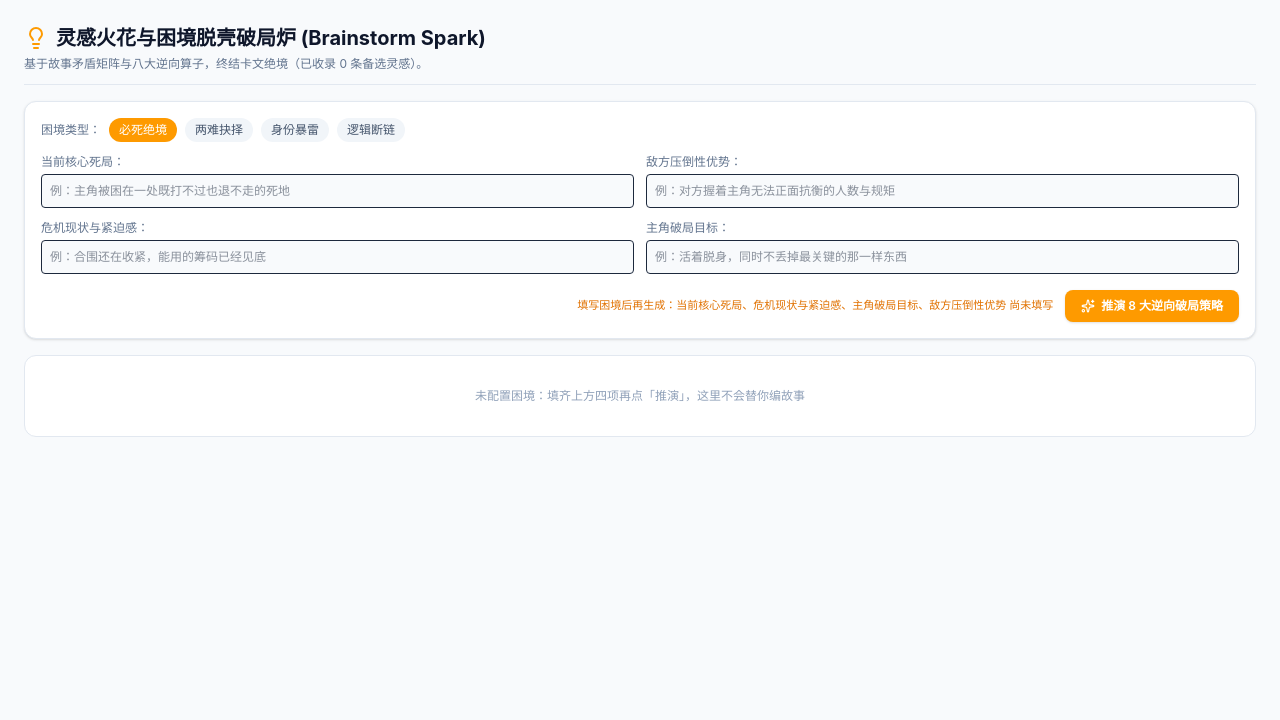
Test case: BrainstormSpark Components › 四项填齐后点推演才产出 8 条方案
In the field with placeholder "例：主角被困在一处既打不过也退不走的死地": (338, 191) [41,174,634,208], type "主角被堵在废弃矿道尽头，追兵只剩一炷香"
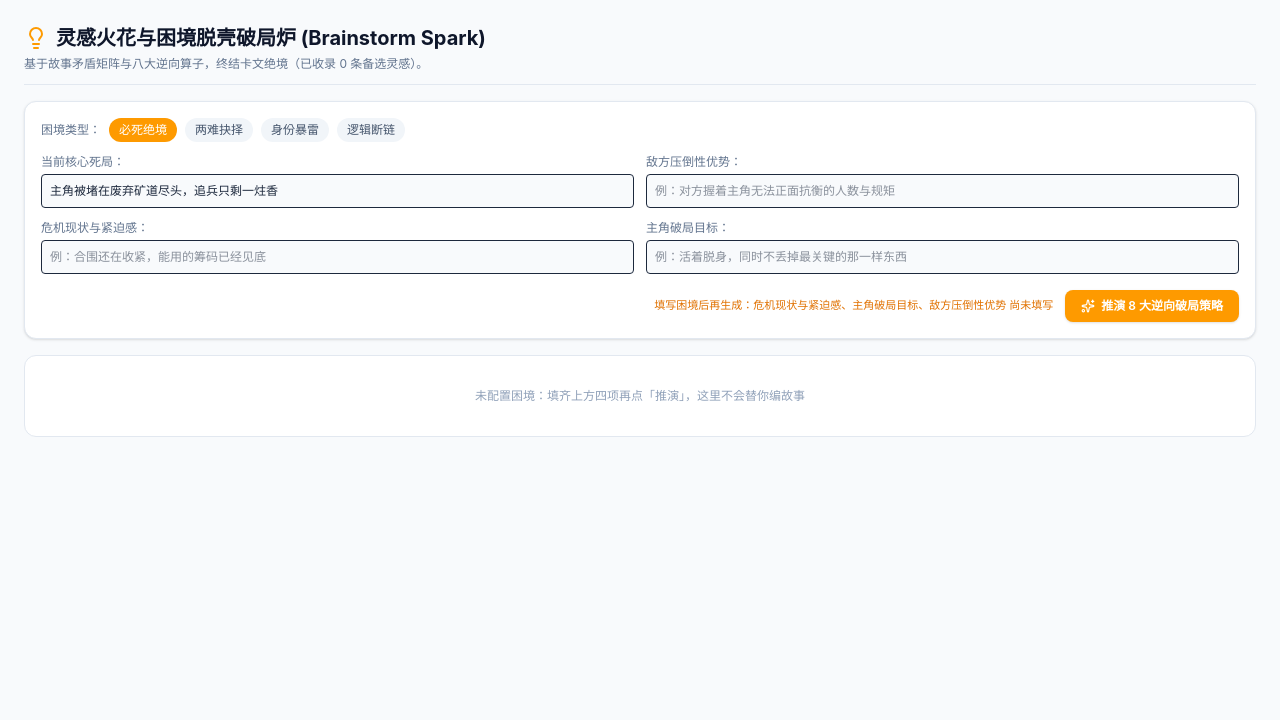
In the field with placeholder "例：合围还在收紧，能用的筹码已经见底": (338, 257) [41,240,634,274], type "矿道口已经塌了一半，手里的火折子只剩一根"
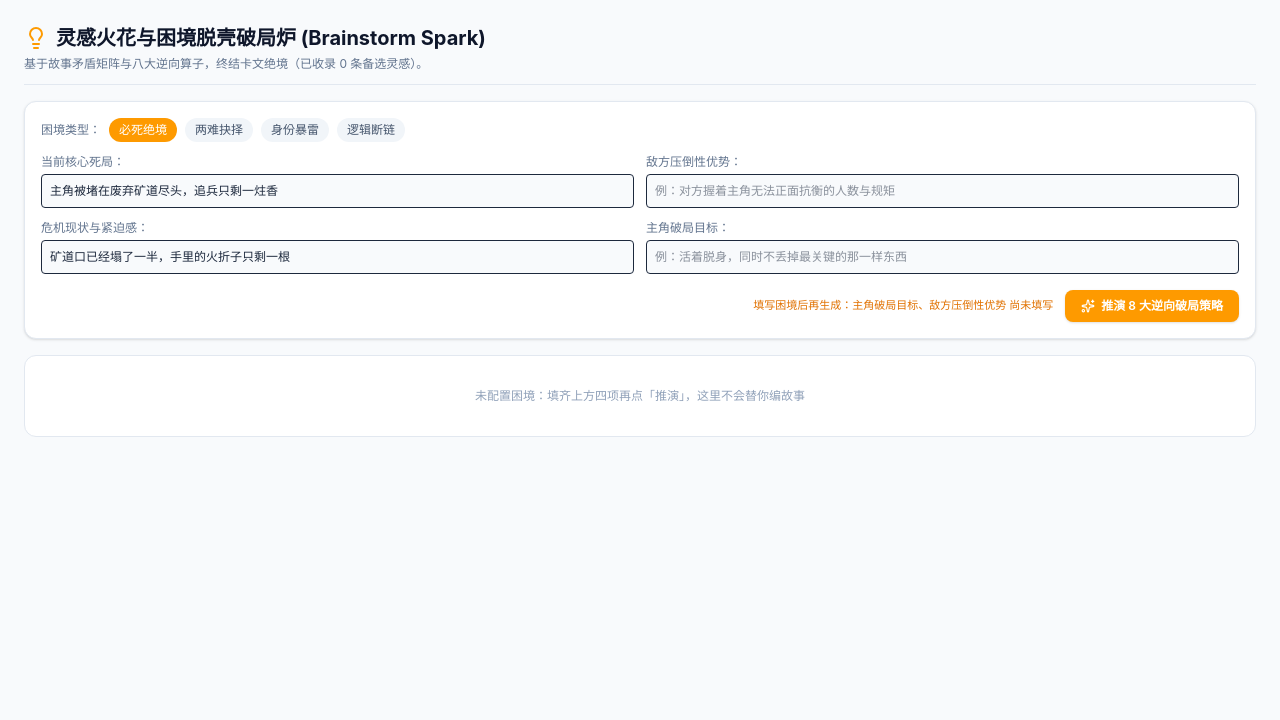
In the field with placeholder "例：活着脱身，同时不丢掉最关键的那一样东西": (942, 257) [646,240,1239,274], type "带着伤重的同伴出去，并且不暴露身份的来路"
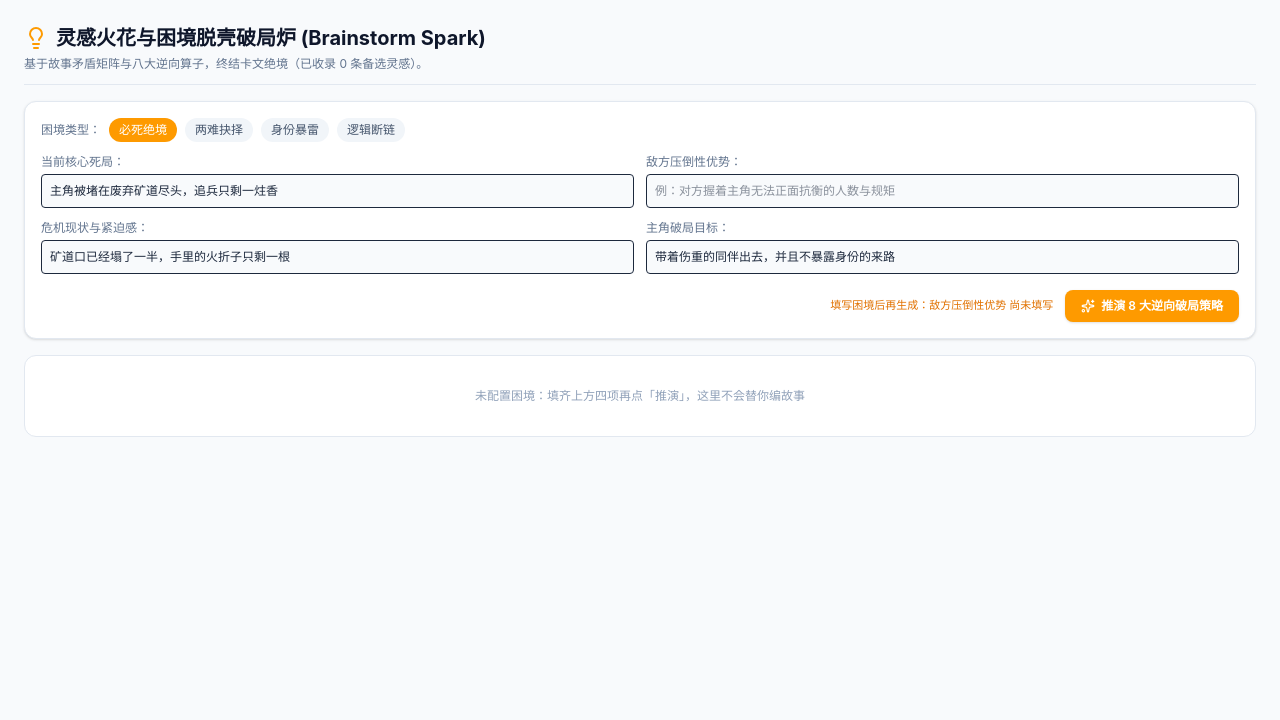
In the field with placeholder "例：对方握着主角无法正面抗衡的人数与规矩": (942, 191) [646,174,1239,208], type "对方熟知矿道每一条支路，且人手是这边的五倍"
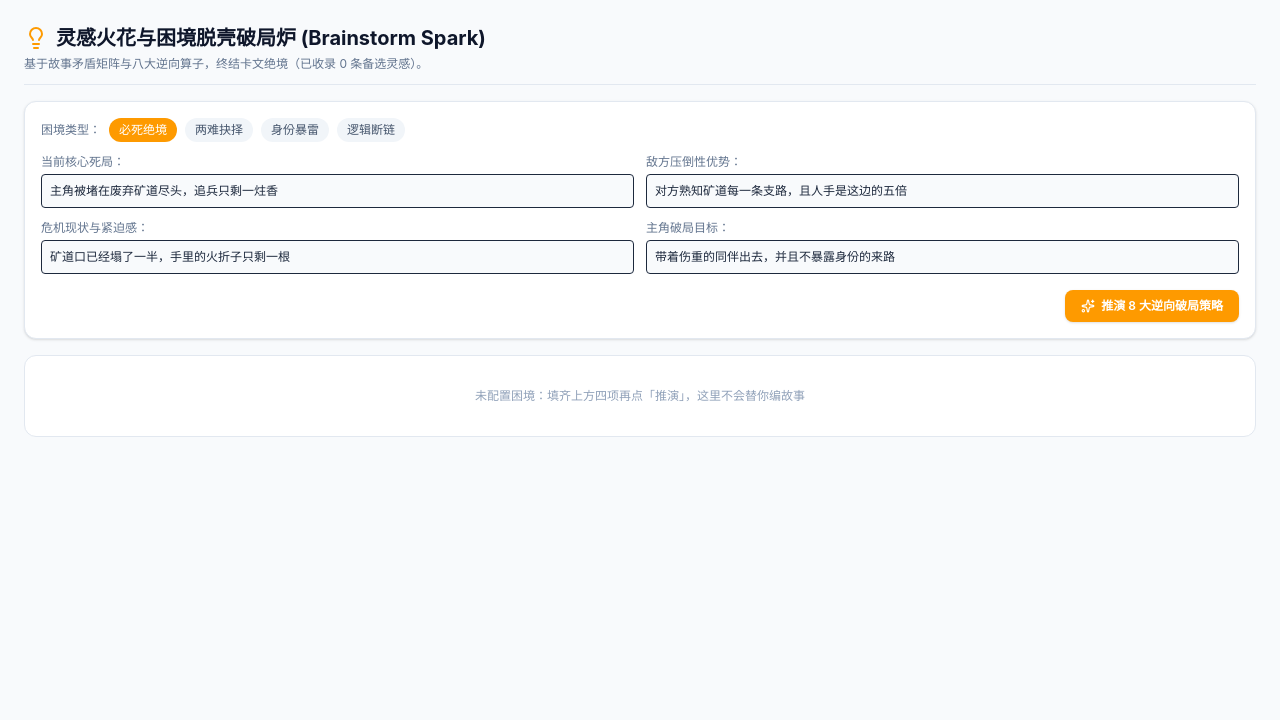
Click the button "推演 8 大逆向破局策略": (1152, 306) [1065,290,1239,322]
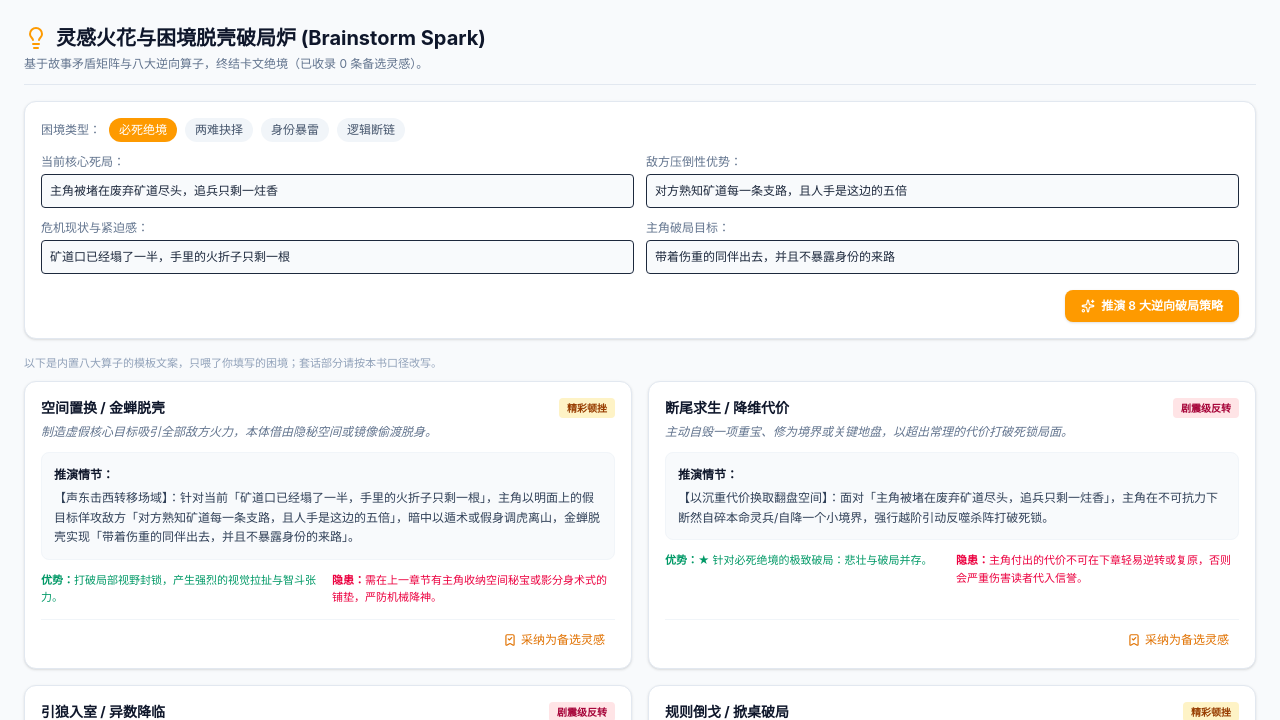
Expected: the text "填写困境后再生成" is not shown
Expected: the number of buttons "采纳为备选灵感" is 8
Expected: the text "追兵只剩一炷香" is shown, [678,490,1218,525]
